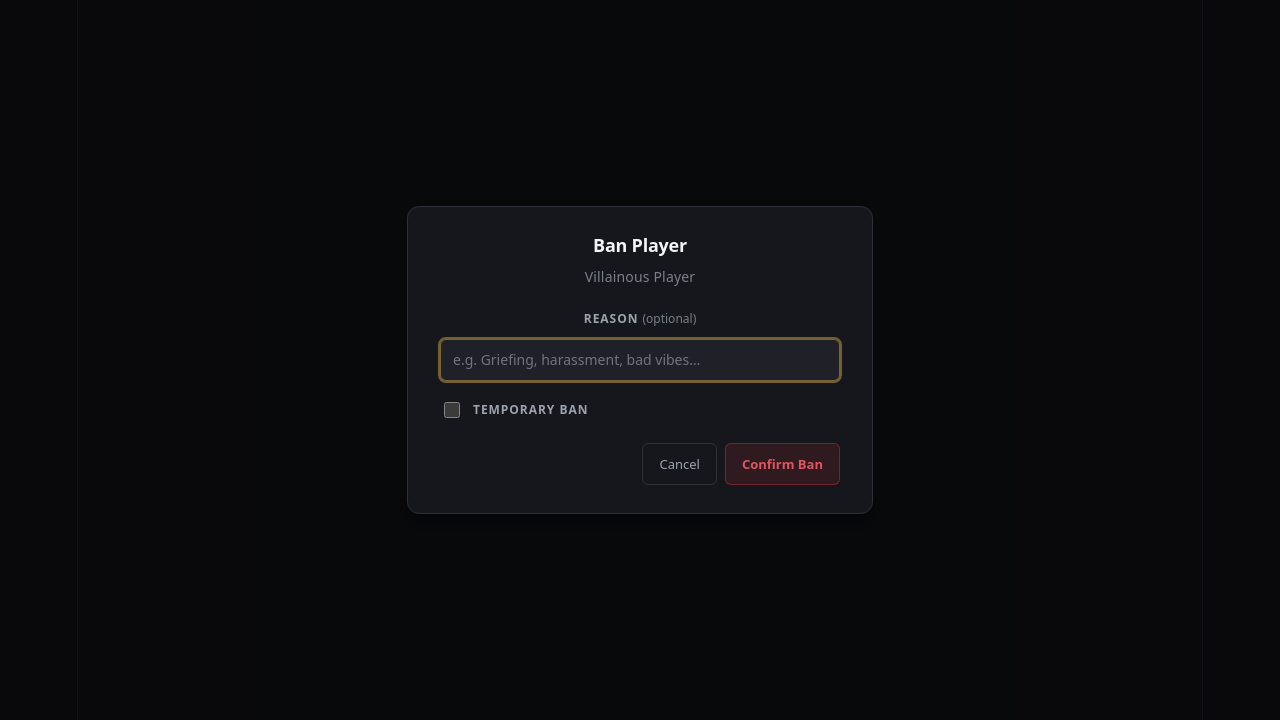
Test: BanModal › disables Confirm Ban when temporary is checked but date is cleared
Click the checkbox labelled "Temporary ban" at (452, 410), box x1=444 y1=402 x2=460 y2=418
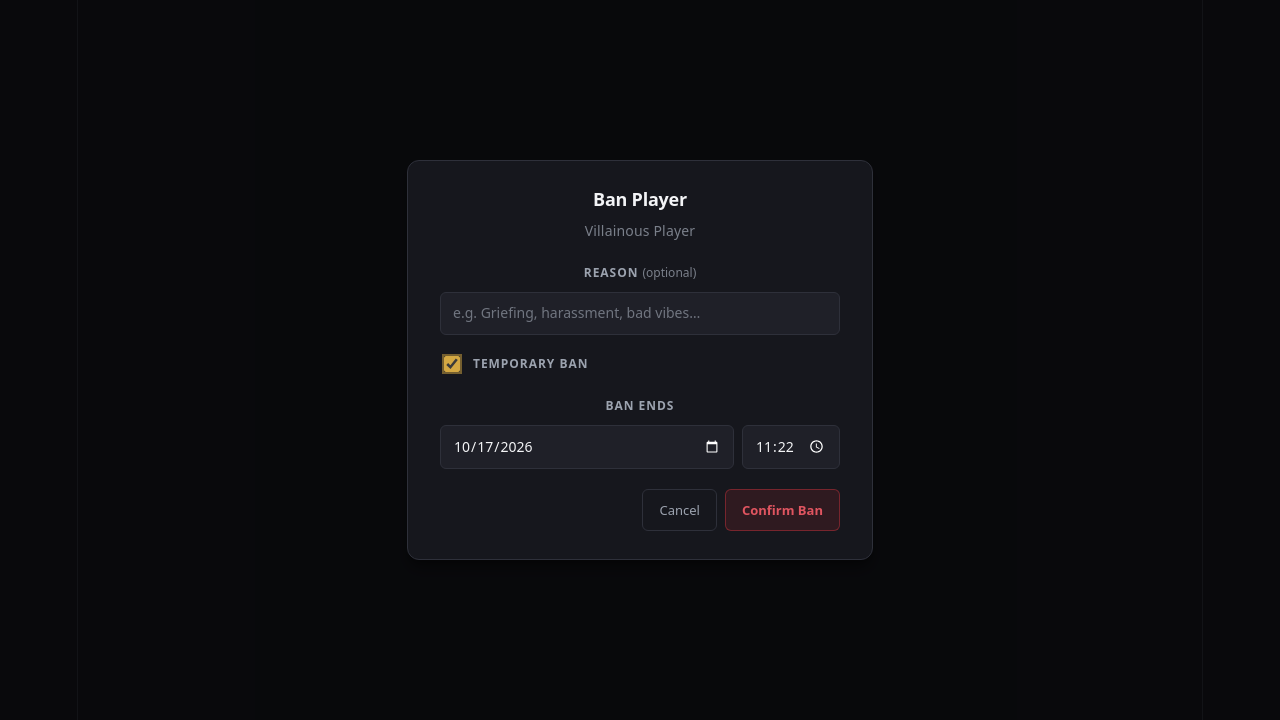
expect the button "Confirm Ban" is enabled: met, box x1=725 y1=489 x2=840 y2=531
# Clear the date field
Clear the date field labelled "Ban ends" at (587, 447), box x1=440 y1=425 x2=734 y2=469
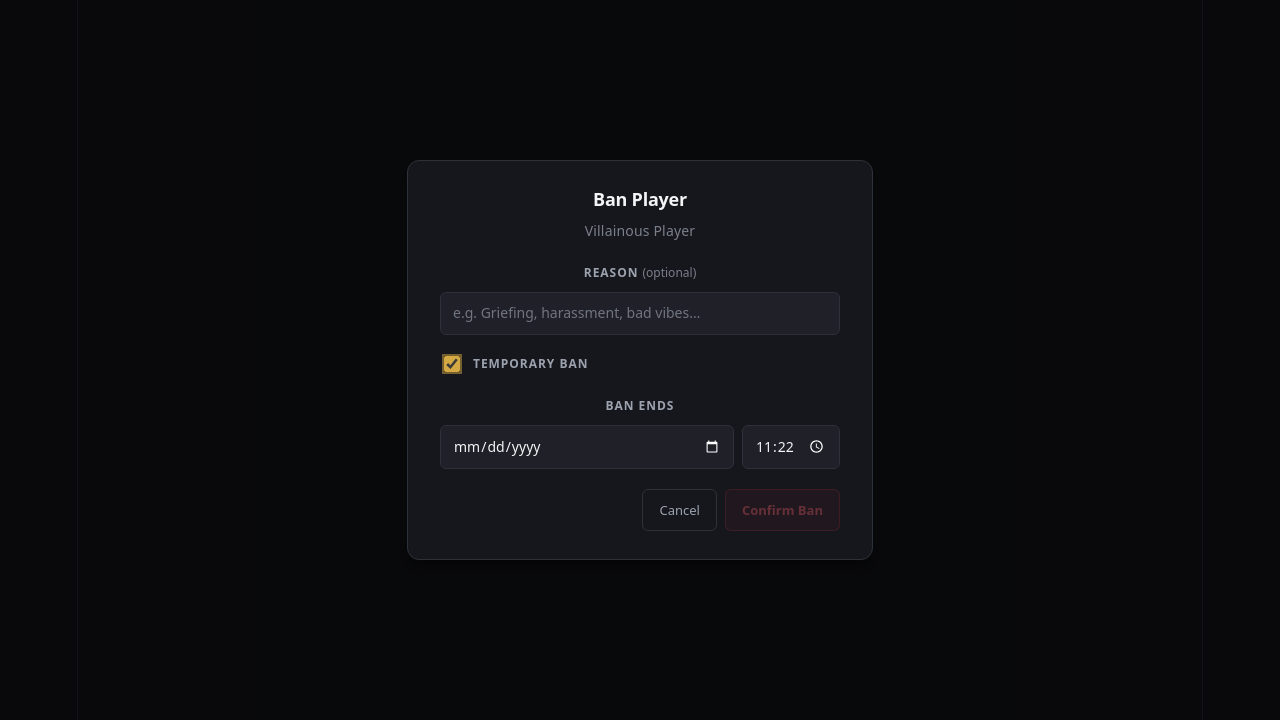
expect the button "Confirm Ban" is disabled: met, box x1=725 y1=489 x2=840 y2=531
